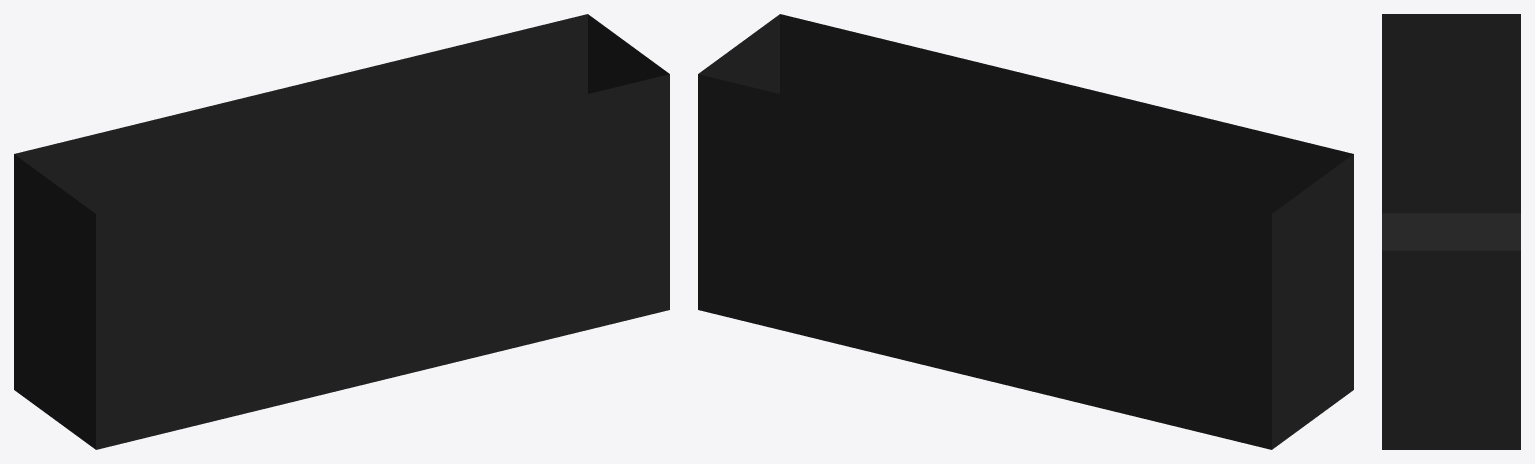
File: Itr_Sofa_Support_01.FBX
The picture shows the model from 3 angles, left to right: view 1: azimuth 30°, elevation 25°; view 2: azimuth 150°, elevation 25°; view 3: azimuth 270°, elevation 25°; orthographic projection. The views are drawn at different scales.
Visible parts, largest first — view 1: Itr_Sofa_Support_01; view 2: Itr_Sofa_Support_01; view 3: Itr_Sofa_Support_01.
Part boxes in pixels (bbox=[...]): Itr_Sofa_Support_01: bbox=[14, 14, 669, 449]; Itr_Sofa_Support_01: bbox=[698, 14, 1353, 449]; Itr_Sofa_Support_01: bbox=[1382, 14, 1520, 449].
Size of the model in its own units: 8.8 by 3.46 by 2.18.
